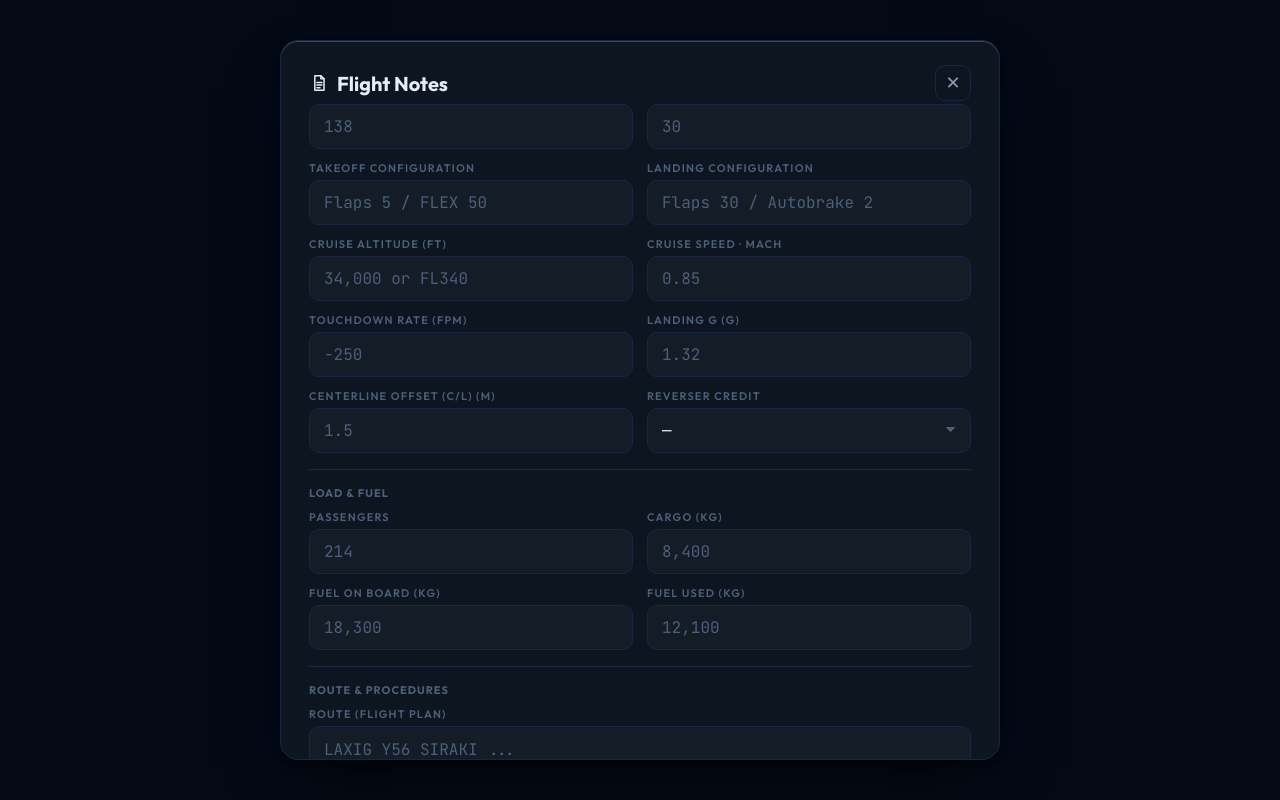
Scenario: FlightMemoModal › Reverser credit は Yes/No の選択式（既定は未選択＝保存されない）
(page scrolled)
Select "Yes" in the dropdown labelled "Reverser credit": {"x": 809, "y": 430} [647,408,971,453]
(page scrolled)
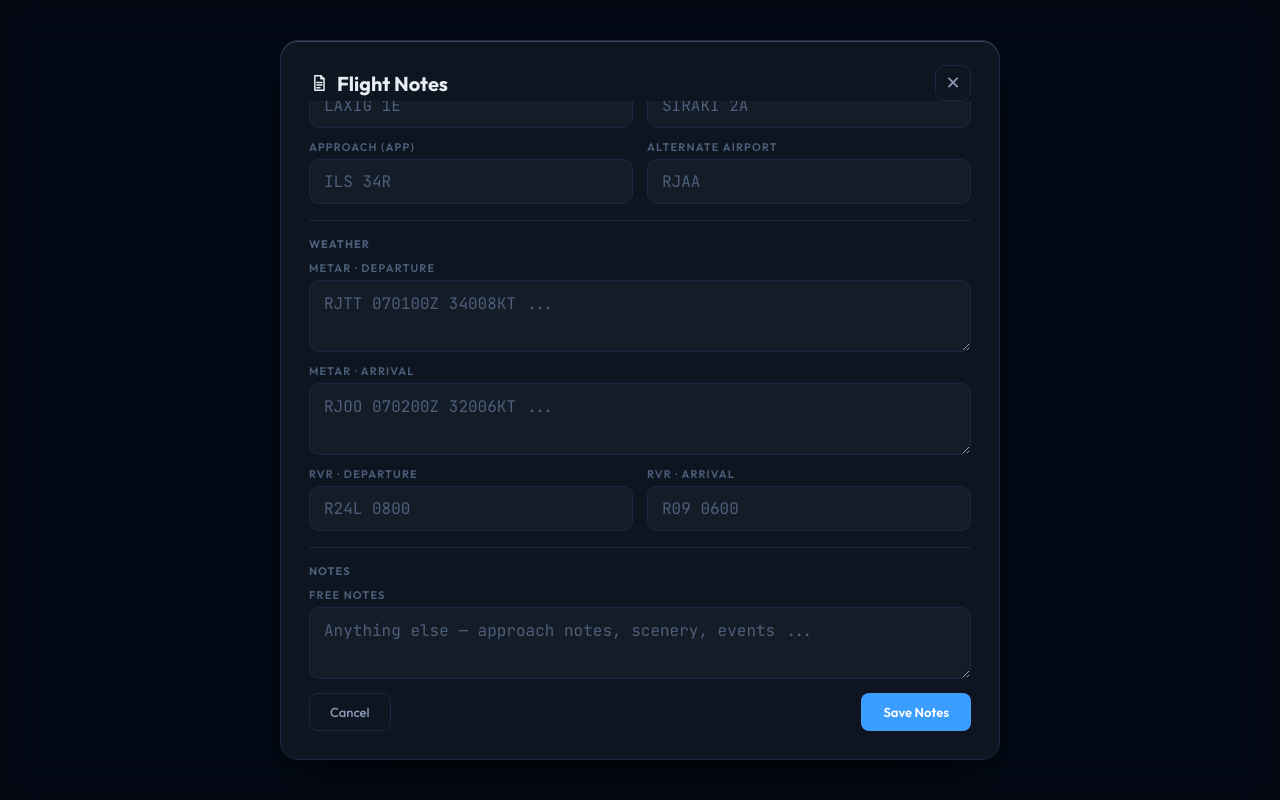
Click the button "Save Notes": {"x": 916, "y": 712} [861,693,971,731]
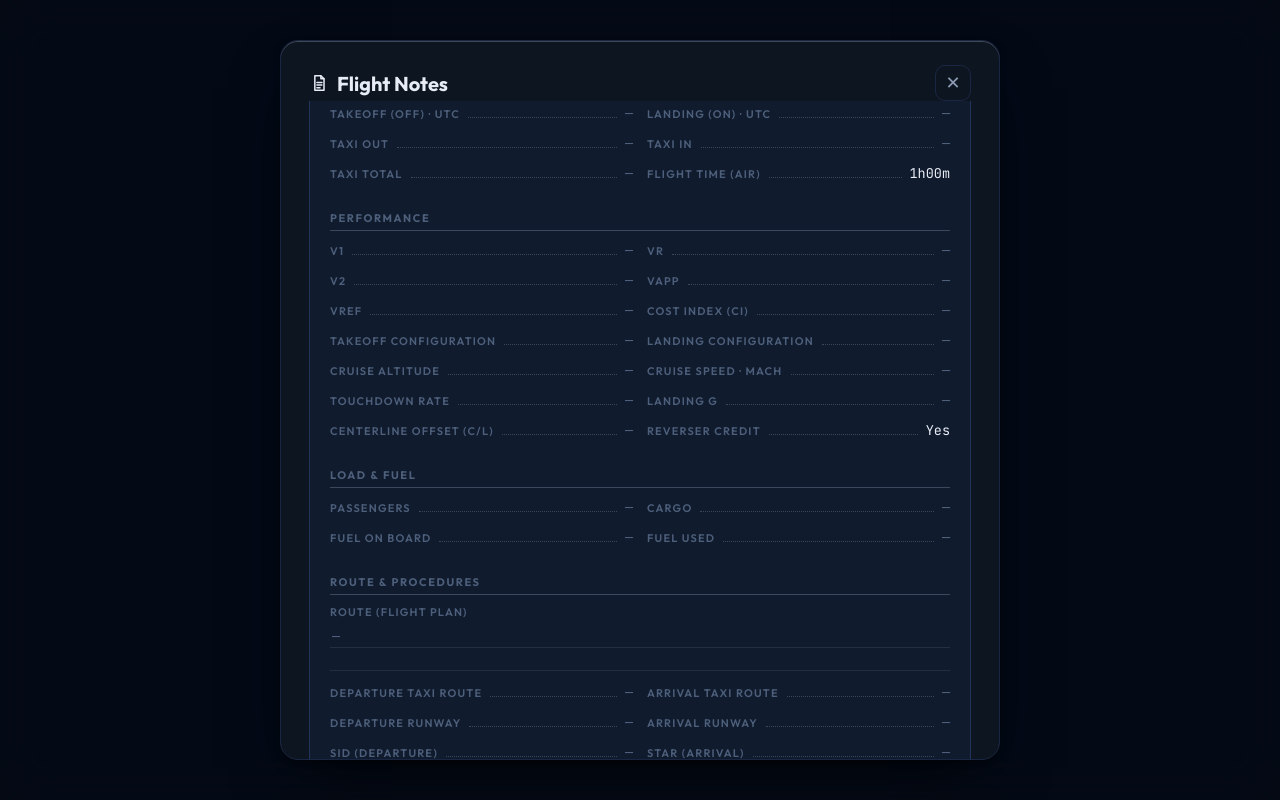
Check: the text "Yes" is shown, box [926,421,950,439]
